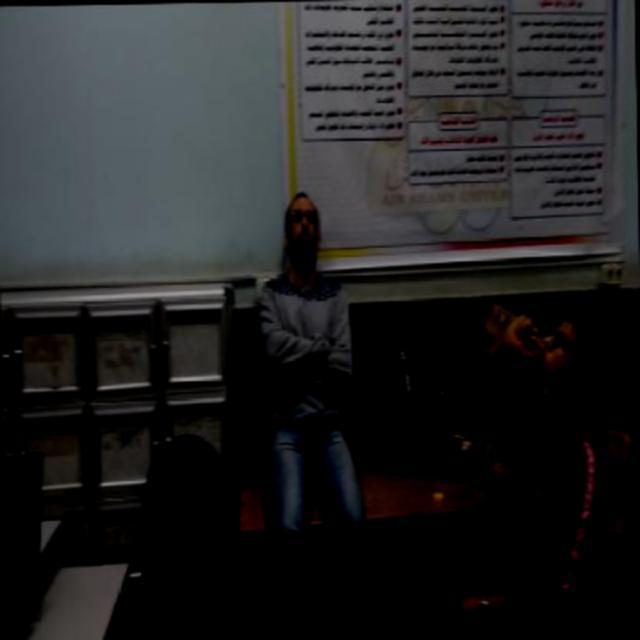non-fight: (440, 303, 617, 637), (252, 187, 368, 638)
